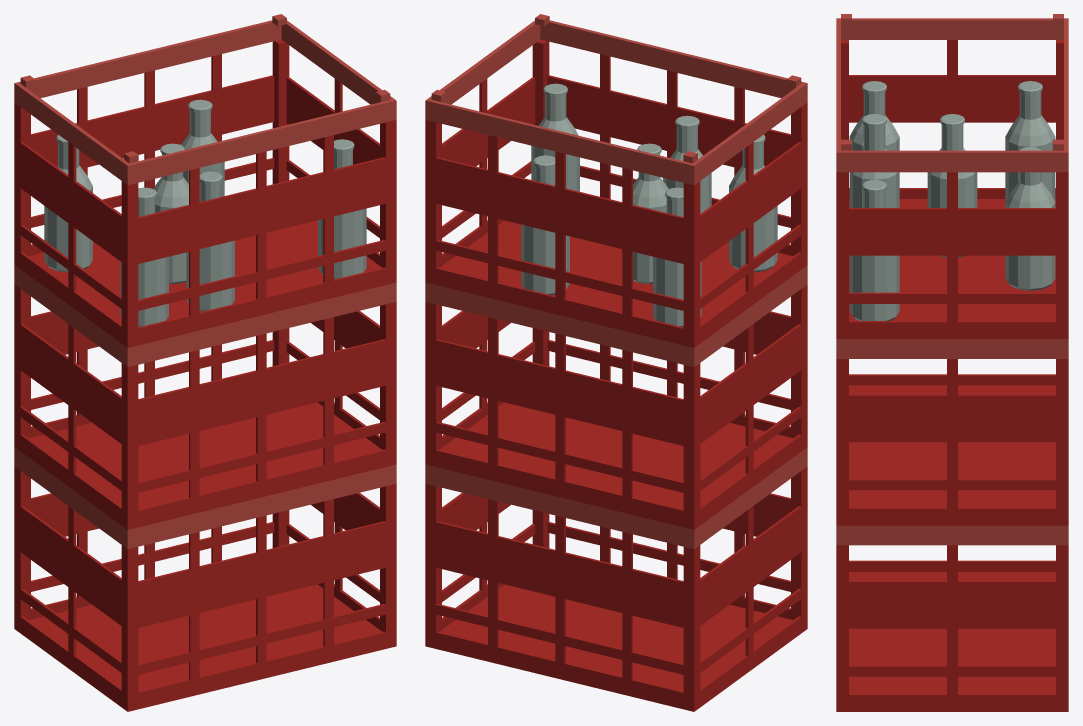
The model's file is milk-crates.glb.
3 renders of one model, left to right at view 1: azimuth 30°, elevation 25°; view 2: azimuth 150°, elevation 25°; view 3: azimuth 270°, elevation 25°, orthographic. The views are drawn at different scales.
Parts seen in each view (by area): view 1: crate_plastic, crate_rim, bottle_glass; view 2: crate_plastic, crate_rim, bottle_glass; view 3: crate_plastic, crate_rim, bottle_glass.
Boxes of the visible parts, left/top/right/bottom form: crate_plastic: left=14, top=39, right=396, bottom=711; crate_rim: left=14, top=14, right=396, bottom=548; bottle_glass: left=44, top=99, right=366, bottom=327; crate_plastic: left=425, top=39, right=807, bottom=711; crate_rim: left=425, top=14, right=807, bottom=548; bottle_glass: left=521, top=83, right=777, bottom=327; crate_plastic: left=836, top=40, right=1068, bottom=711; crate_rim: left=836, top=14, right=1068, bottom=545; bottle_glass: left=849, top=81, right=1055, bottom=320.
Bounding box in the file's own units: 0.408 × 0.801 × 0.298.
